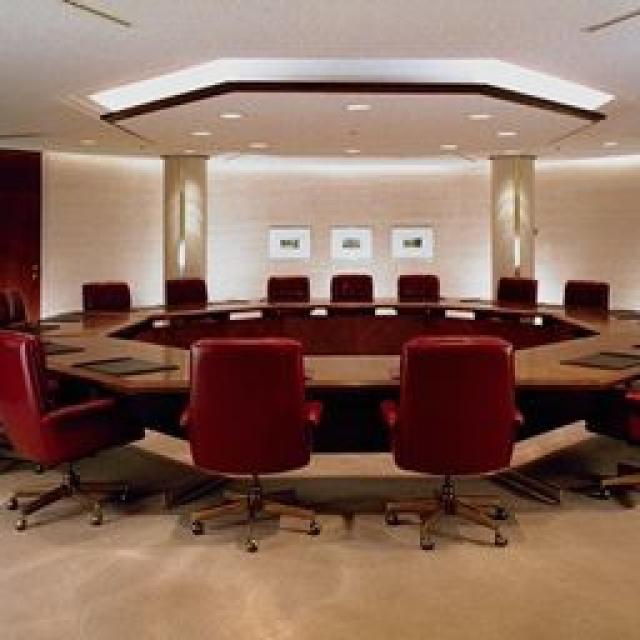beam: (155, 152, 205, 300), (485, 152, 532, 298)
ceiling lamps: (92, 52, 615, 110), (338, 98, 375, 115), (215, 108, 250, 122), (465, 110, 500, 122)
chair: (78, 278, 125, 310), (158, 275, 202, 302), (392, 270, 438, 295), (565, 282, 605, 310), (492, 272, 535, 298), (328, 268, 368, 295), (262, 270, 305, 295)
chair -occluded-: (385, 335, 508, 550), (0, 332, 140, 515), (192, 335, 312, 545)
conference table: (12, 292, 635, 382)
overhead lighting: (108, 80, 600, 162)
painting crop: (390, 220, 430, 255), (268, 225, 308, 258), (328, 225, 370, 255)
picture crop: (328, 230, 375, 262)
place mat: (68, 352, 168, 372), (555, 342, 638, 365)
